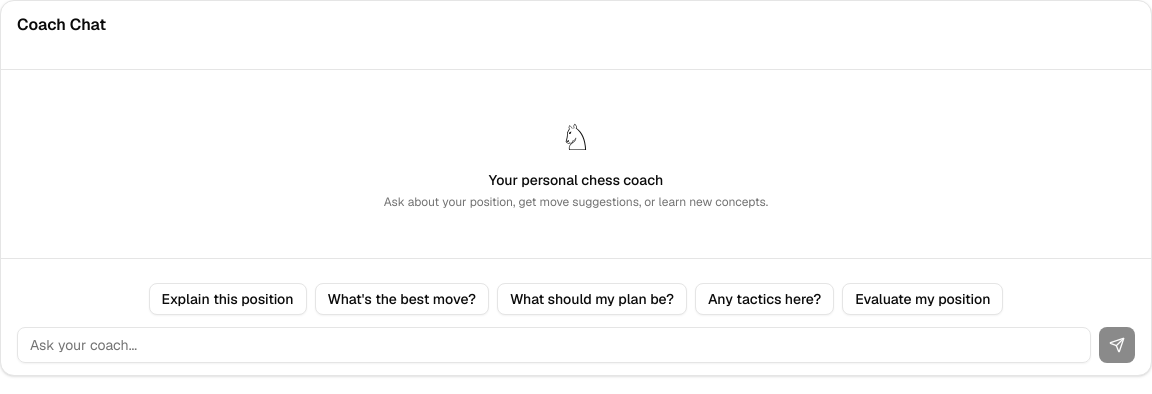
Test: ChatPanel › enables send button when input has text
Type "Hello" into the field with placeholder "Ask your coach..." at (554, 345), box [17,327,1091,363]
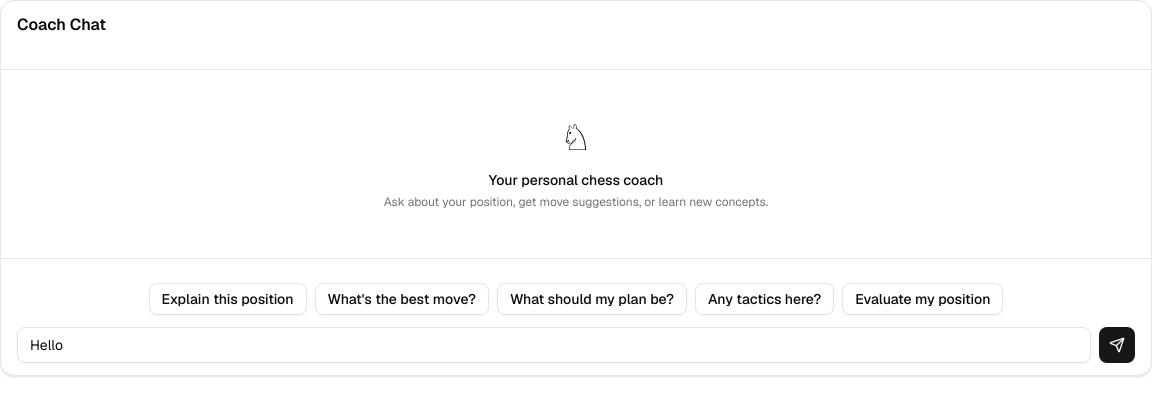
Check: the 6th button is enabled, box [1099,327,1135,363]
